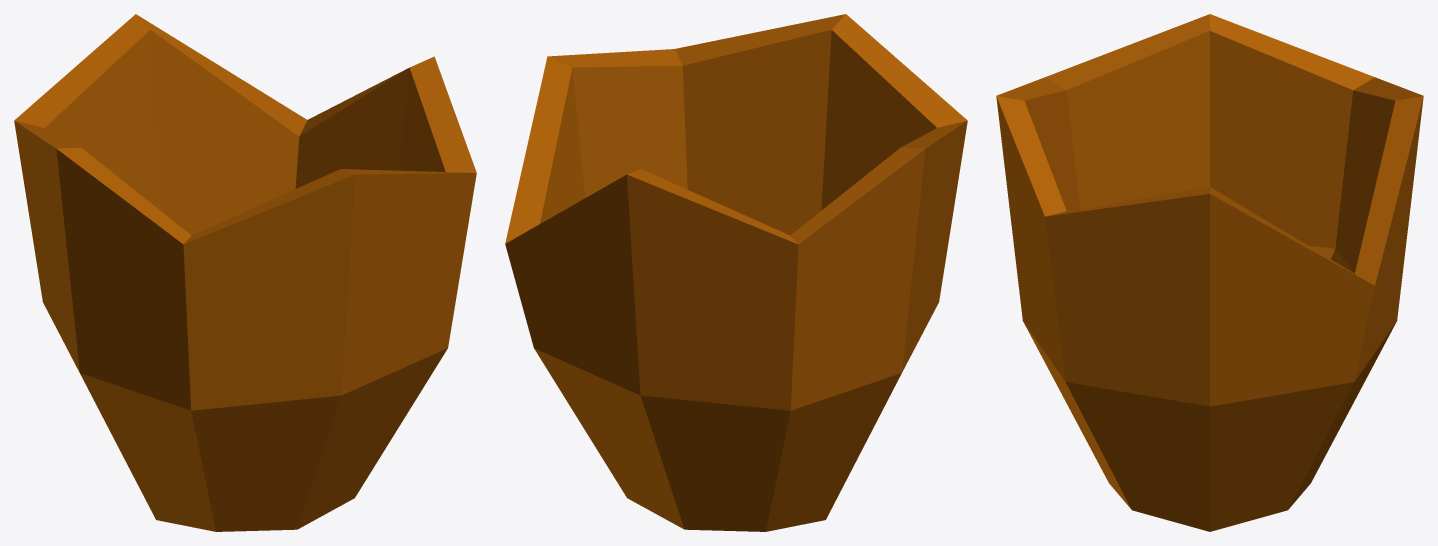
File: Tazon.fbx
The picture shows the model from 3 angles, left to right: view 1: azimuth 30°, elevation 25°; view 2: azimuth 150°, elevation 25°; view 3: azimuth 270°, elevation 25°; orthographic projection. The views are drawn at different scales.
Parts seen in each view (by area): view 1: Cube; view 2: Cube; view 3: Cube.
Part boxes in pixels (x1,y1,x2,y2): Cube: [14, 14, 476, 531]; Cube: [505, 14, 967, 531]; Cube: [996, 14, 1423, 531].
Size of the model in its own units: 253 by 258 by 254.
